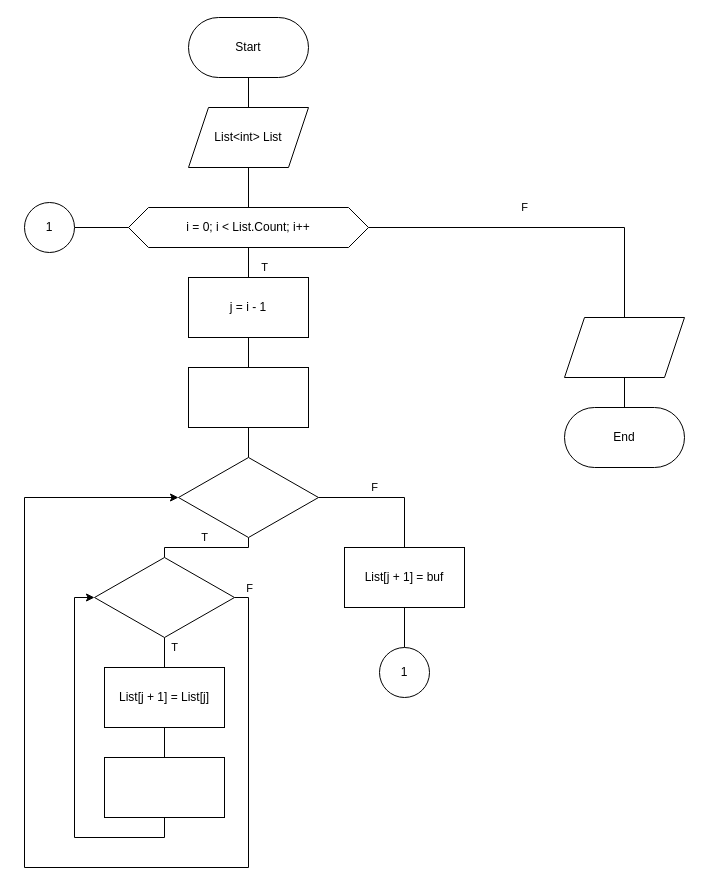
This 702x893 diagram has some shape labels left out. Here are the shapes that lost their labels. From the top down, the box of each, then its label:
(564, 316, 684, 378): List
(188, 366, 308, 428): buf = List[i]
(178, 456, 318, 538): j >= 0
(94, 556, 234, 638): List[j] > buf
(104, 756, 224, 818): j--
